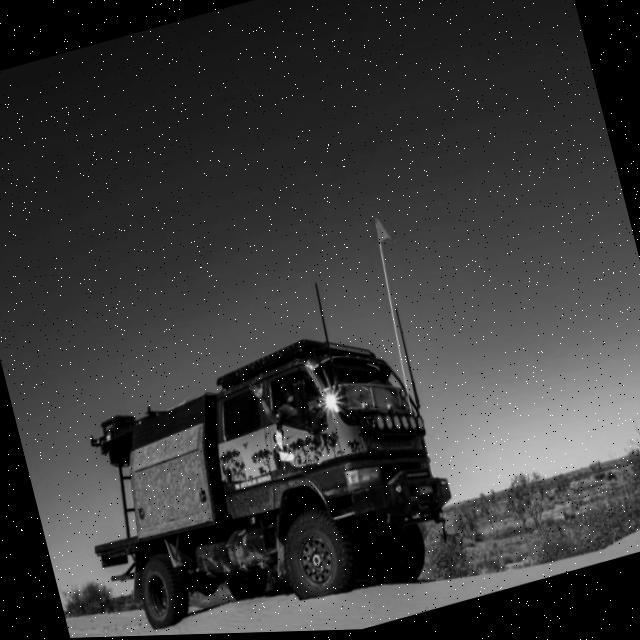truck: (53, 313, 467, 639)
